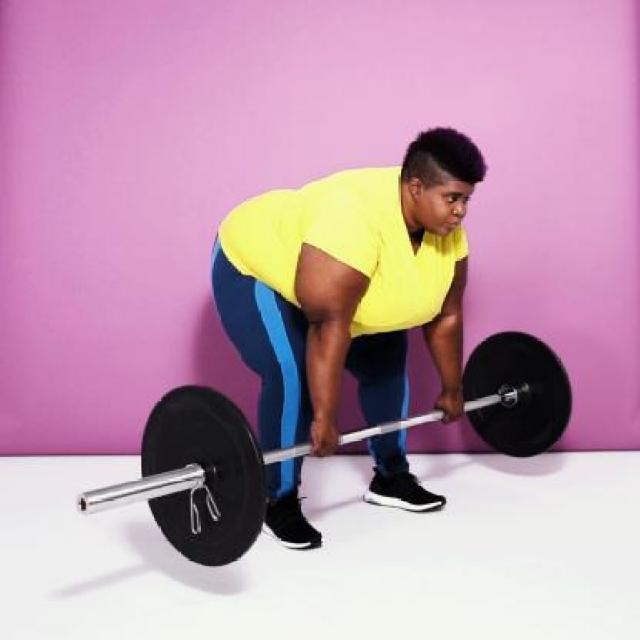Barbell: (66, 482, 99, 528)
